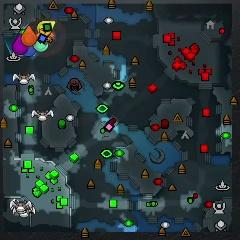p1: (22, 46, 37, 57)
p2: (33, 39, 49, 52)
p3: (12, 33, 27, 54)
p4: (37, 20, 56, 35)
p5: (22, 26, 36, 46)
